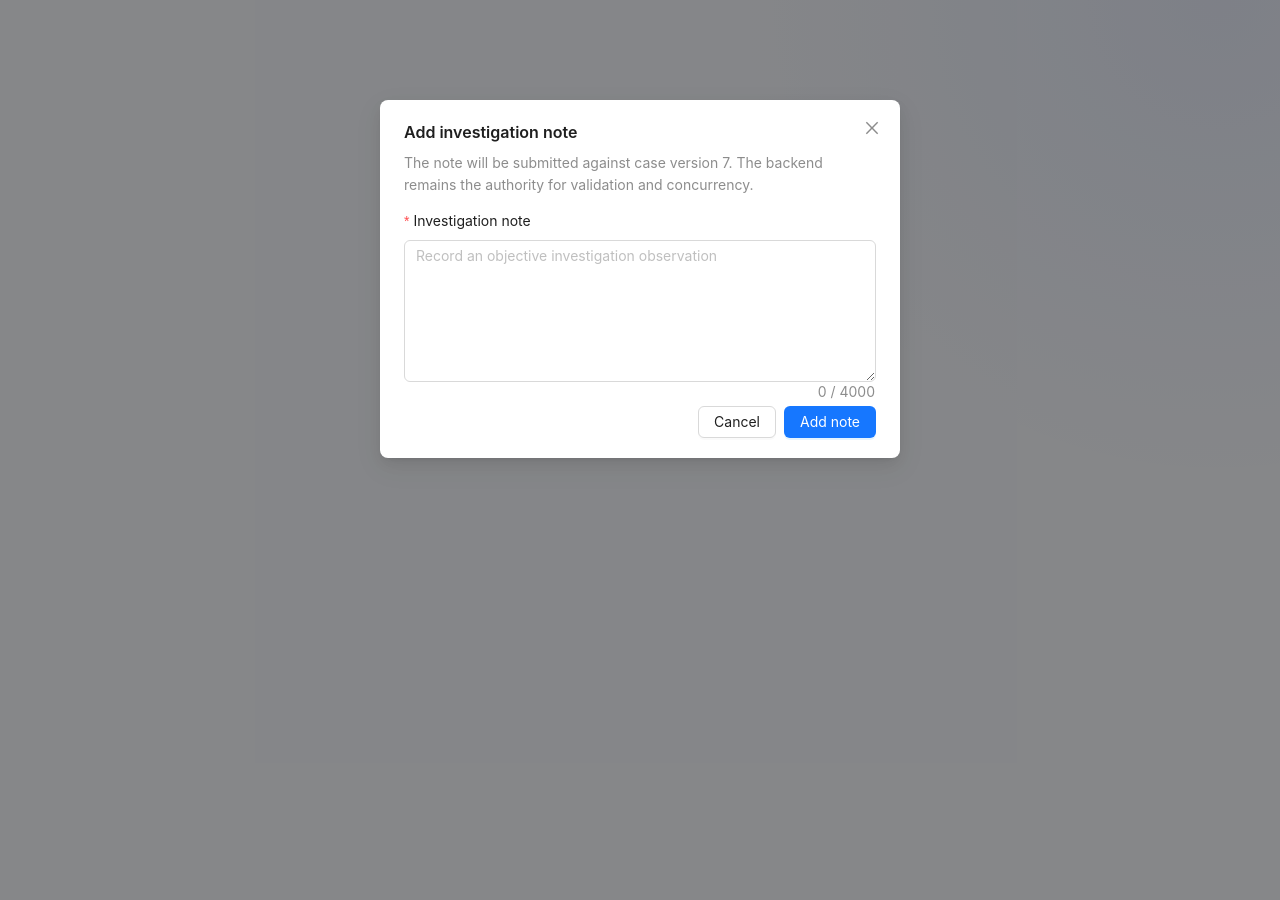
Test case: AddNoteDialog › surfaces an ordinary backend ResultCode error without closing
Type "Objective note." into the text box labelled "Investigation note" at (640, 311), box [405,241,875,381]
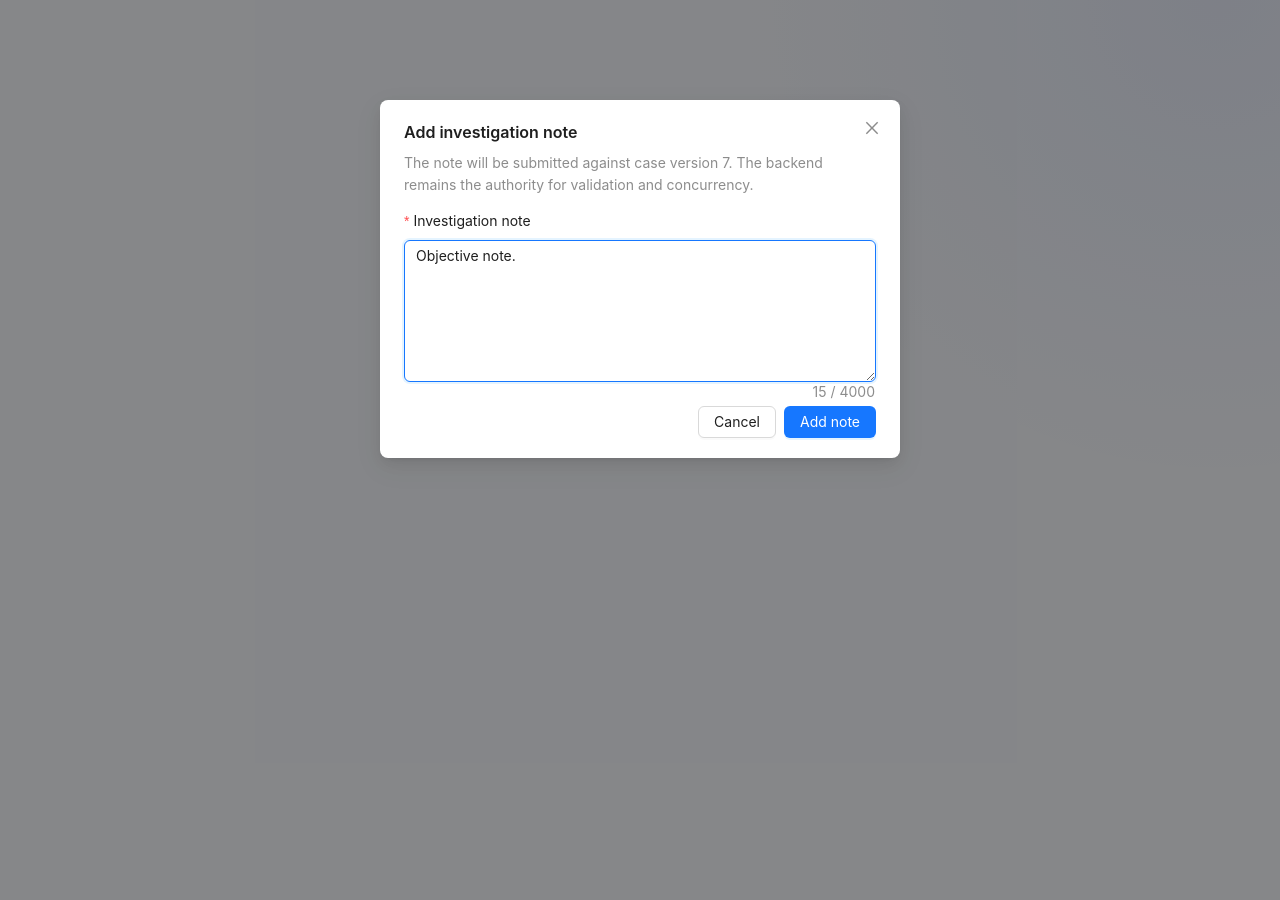
Click the button "Add note" at (830, 422), box [784,406,876,438]
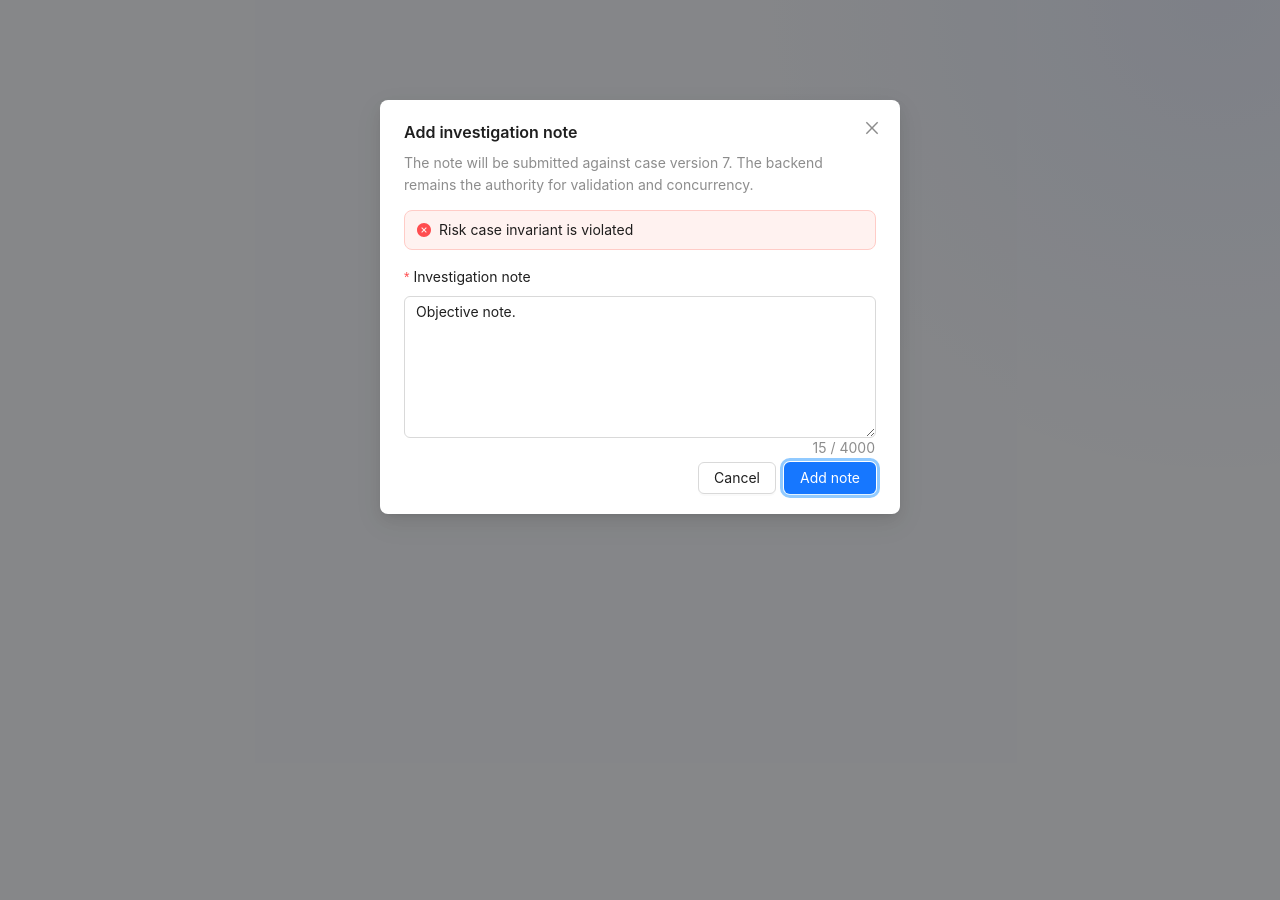
Expected: the dialog is shown, [380,100,900,538]
Result: the text "Risk case invariant is violated" is shown at [439,221,633,238]
